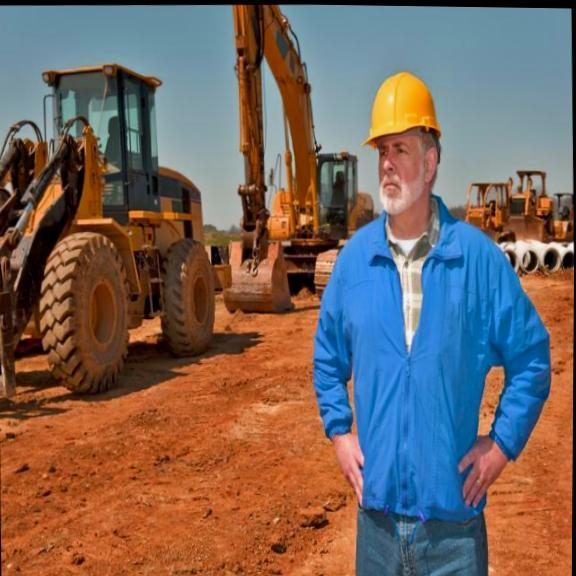safety_vest: (322, 204, 520, 522)
